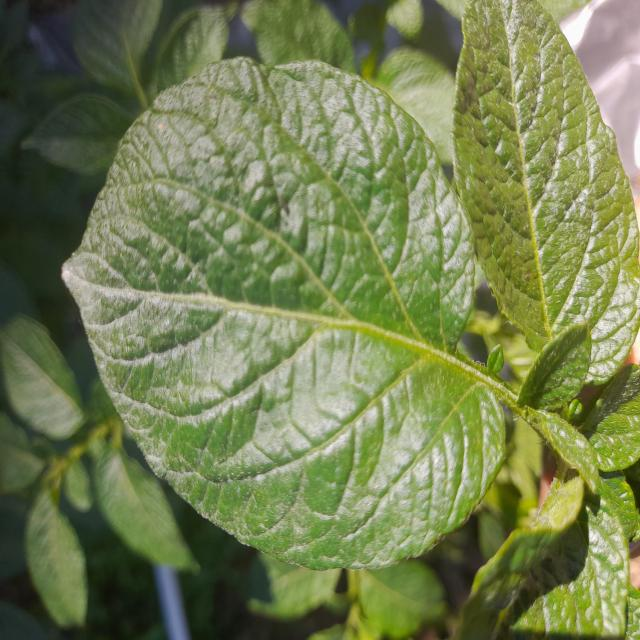healthy: (59, 54, 509, 574)
